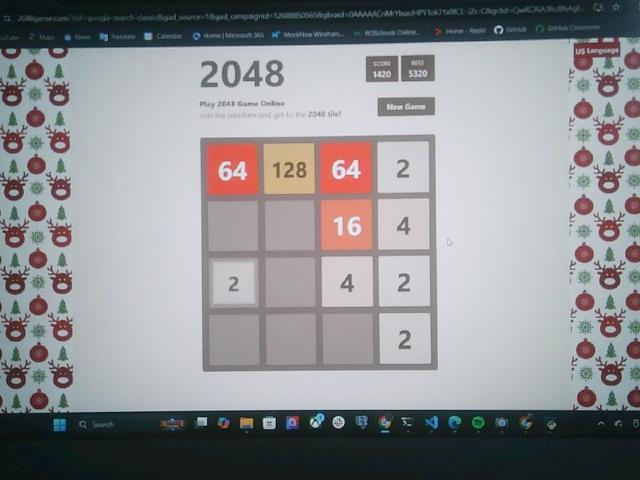board: (200, 137, 438, 372)
tile: (379, 256, 431, 308), (206, 143, 259, 194), (320, 143, 373, 194), (379, 198, 430, 251), (321, 256, 374, 307), (380, 313, 433, 364), (379, 142, 430, 194), (321, 200, 373, 250), (265, 144, 315, 194), (210, 259, 260, 309)
